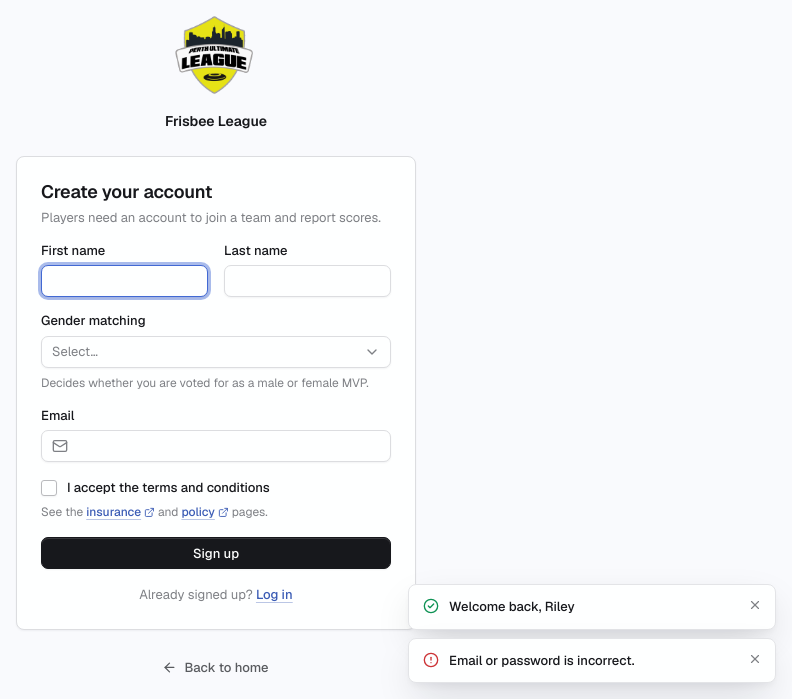
AuthScreen sign up step › blocks submit when {"gender":false}
Type "Jo" into the field labelled "First name" at (124, 281), box [52, 266, 197, 296]
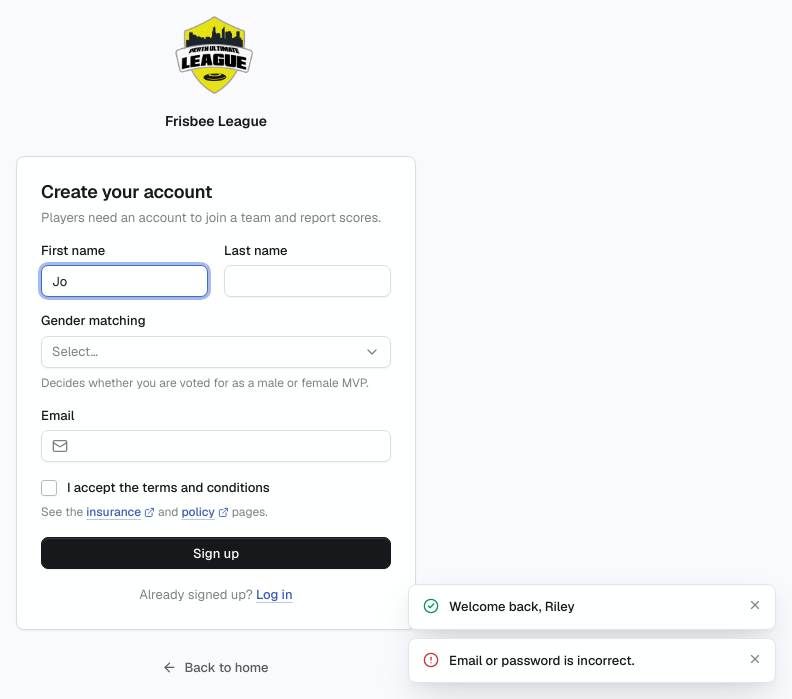
Type "Bloggs" into the field labelled "Last name" at (308, 281), box [235, 266, 380, 296]
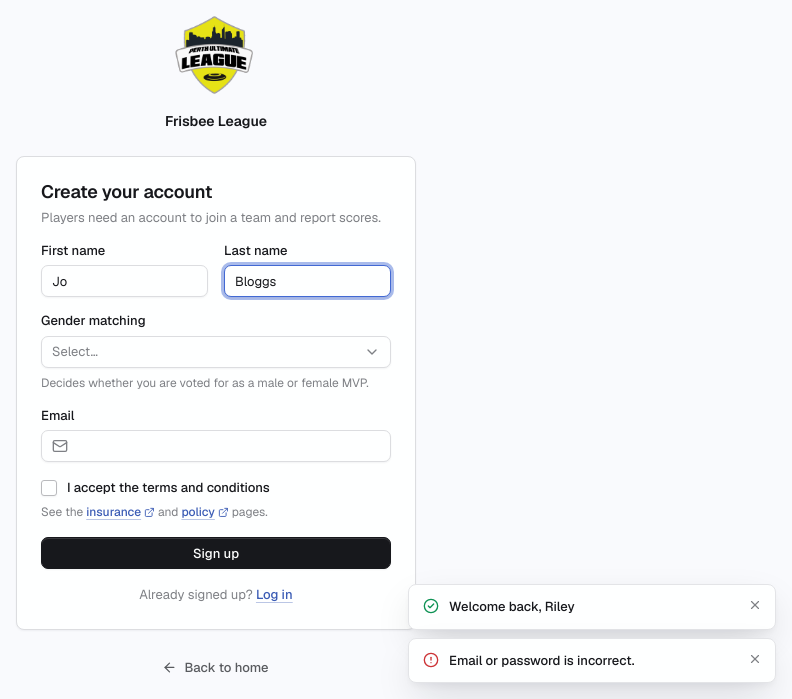
Type "jo@example.com" into the field labelled "Email" at (228, 446), box [76, 431, 380, 461]
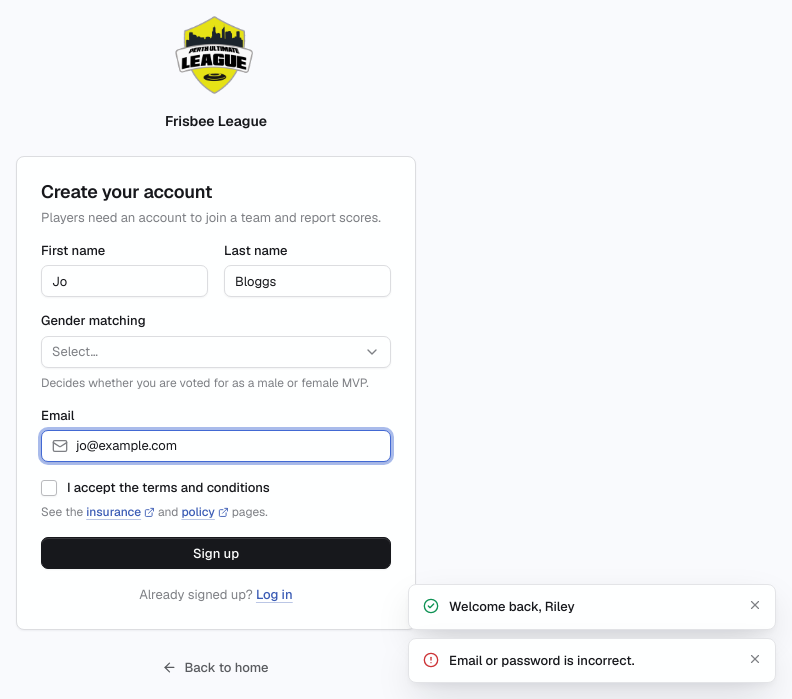
Click the checkbox named "I accept the terms and conditions" at (49, 488), box [41, 480, 57, 496]
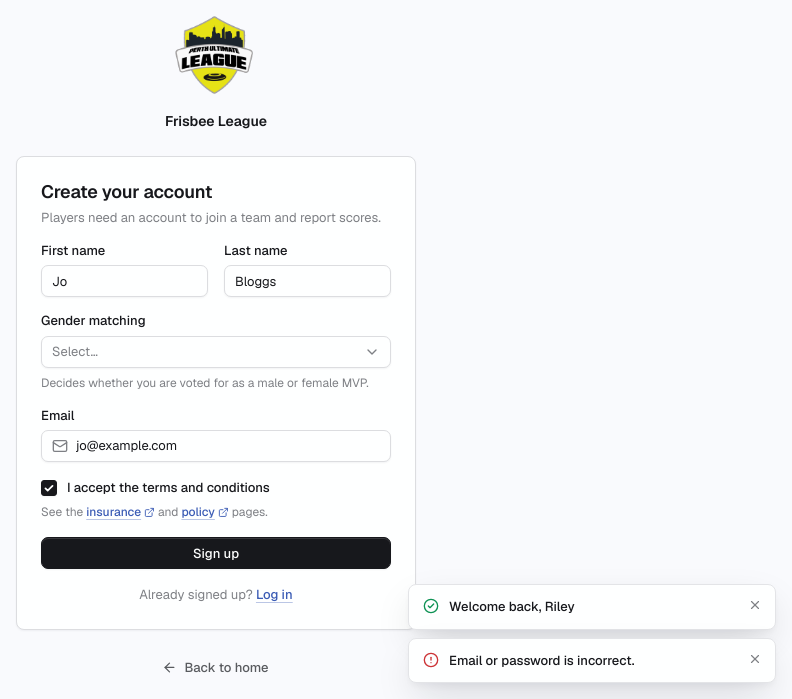
Click the button "Sign up" at (216, 553), box [41, 537, 391, 569]
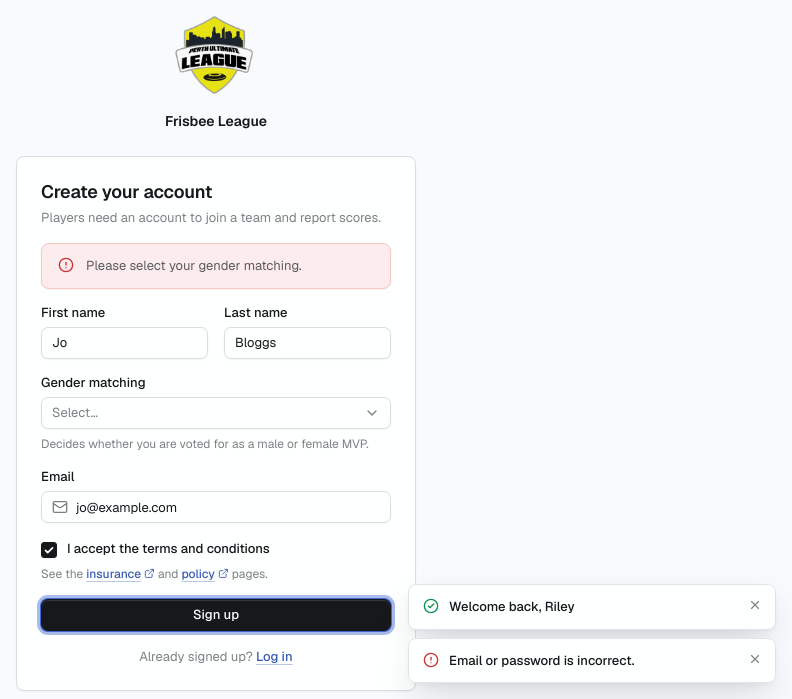
Now the text "Please select your gender matching." is shown, box [86, 257, 302, 274]
